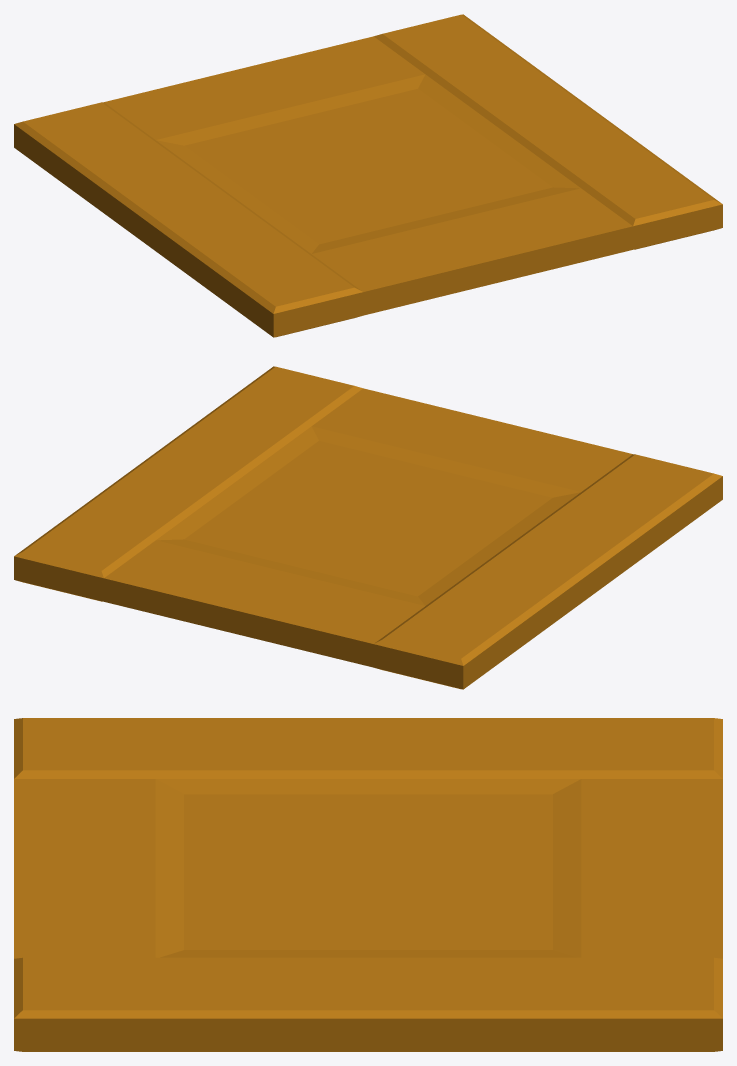
The model's file is stone_floor_4x4.fbx.
The picture shows the model from 3 angles, top to bottom: view 1: azimuth 30°, elevation 25°; view 2: azimuth 150°, elevation 25°; view 3: azimuth 270°, elevation 25°; orthographic projection. The views are drawn at different scales.
Visible parts, largest first — view 1: stone_floor_4x4; view 2: stone_floor_4x4; view 3: stone_floor_4x4.
Part boxes in pixels (box(x1,y1,x2,y2)): stone_floor_4x4: box(14, 14, 722, 337); stone_floor_4x4: box(14, 366, 722, 689); stone_floor_4x4: box(14, 718, 722, 1051).
Size of the model in its own units: 18.2 by 1.18 by 18.2.
